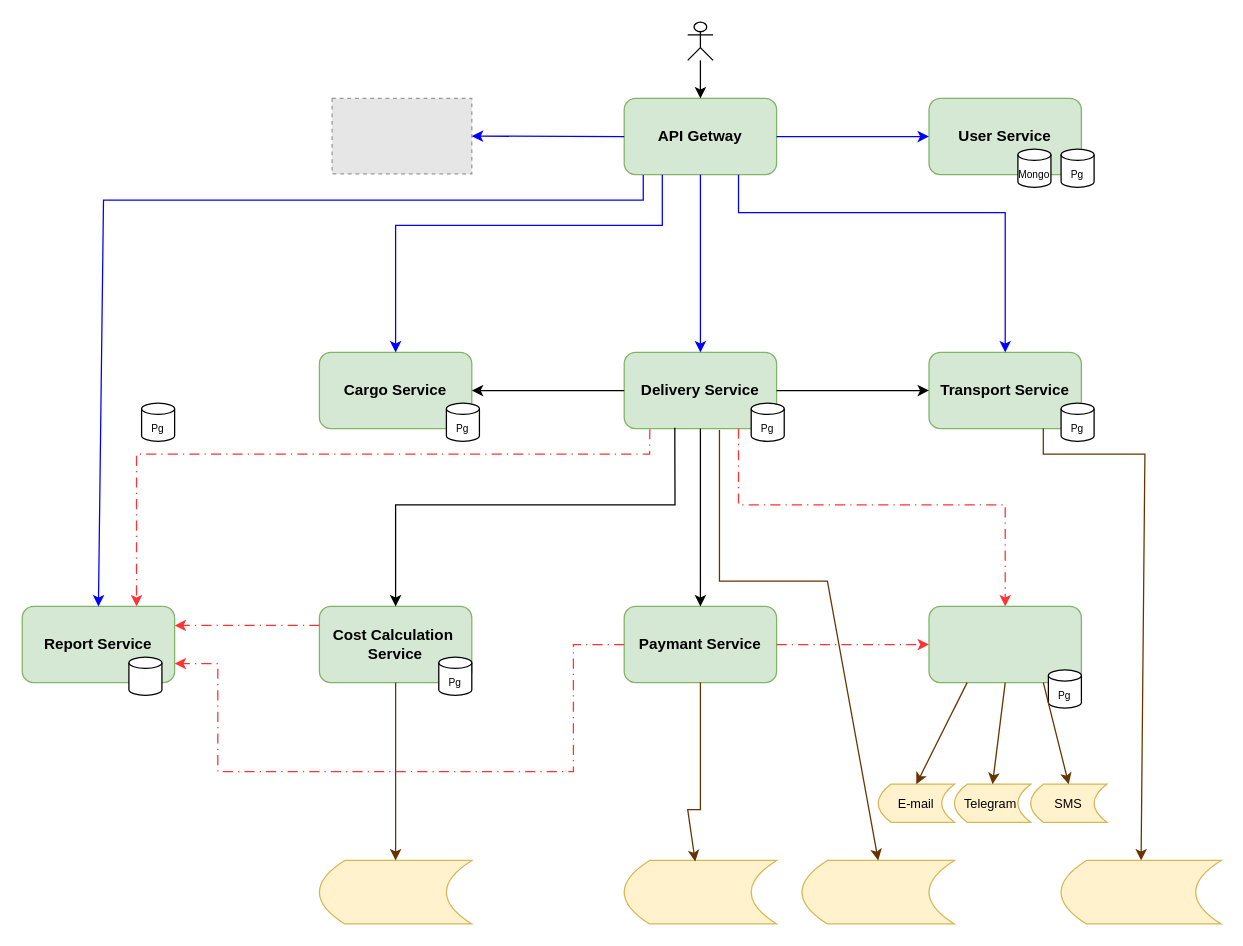
The diagram is 1243 pixels wide and 946 high, and some of its shapes have lost their labels. Grey dashed boxes stand in for pictures. Here are the shapes that lost their labels. From the top down, the centre of each, then its label:
(699,40): User
(1004,644): Notification Service
(145,675): Redis
(395,891): Актуализация ценовых ставок, курсов валют
(700,891): Банковская система проведения платежей
(877,891): Обновление местоположения груза
(1140,891): Актуализация существующего транспорта
